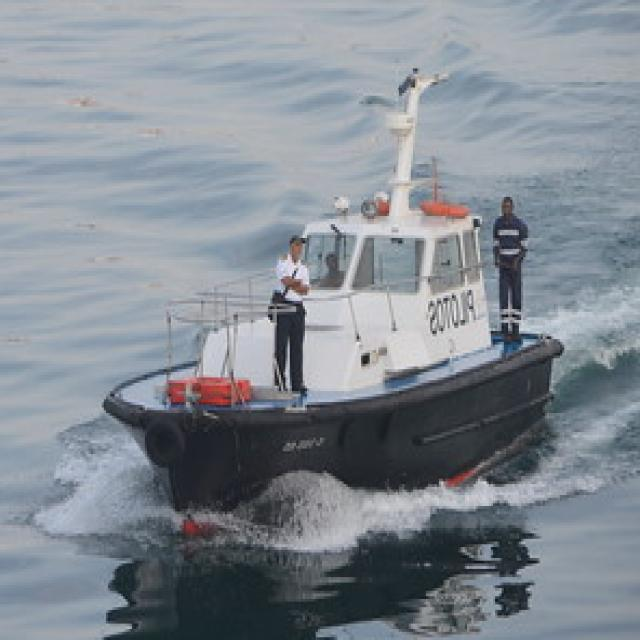houseboat: (103, 70, 562, 512)
